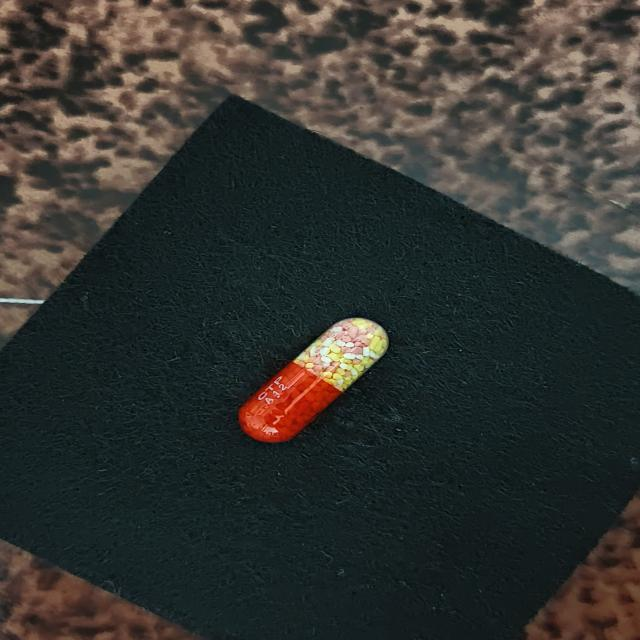Intact Capsule: (238, 318, 389, 443)
